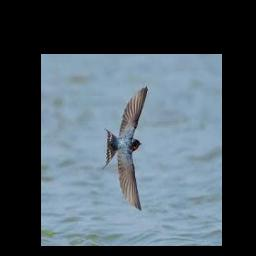Swallow: (100, 86, 147, 211)
